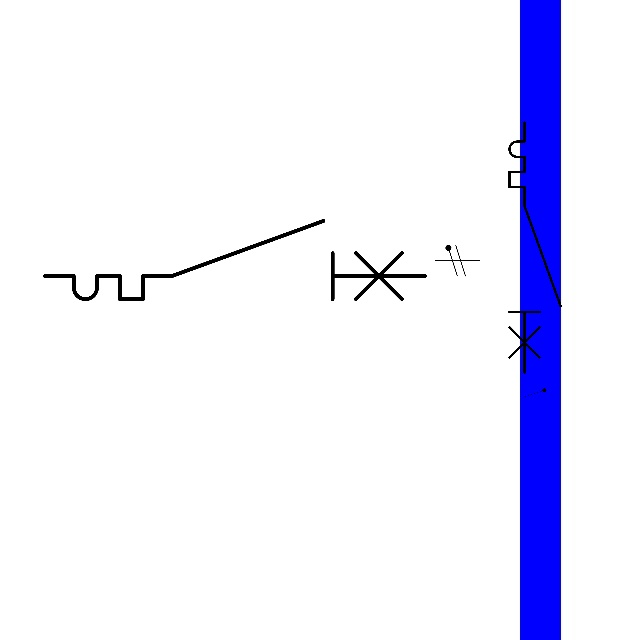interruptor_termomagnetico: (35, 211, 435, 309), (503, 116, 567, 379)
